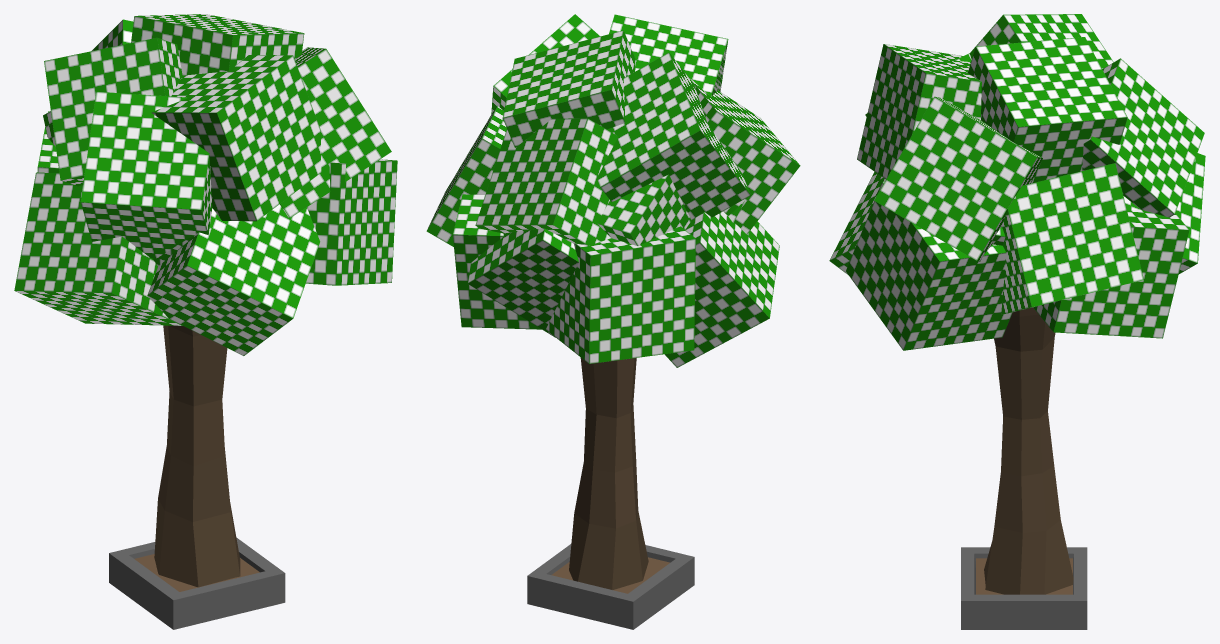
The model's file is Tree1.fbx.
3 views of the same model, side by side, from view 1: azimuth 30°, elevation 25°; view 2: azimuth 150°, elevation 25°; view 3: azimuth 270°, elevation 25° (orthographic). The views are drawn at different scales.
Visible parts, largest first — view 1: Tree_LOD0; view 2: Tree_LOD0; view 3: Tree_LOD0.
Part boxes in pixels (x1,y1,x2,y2): Tree_LOD0: [14, 14, 397, 629]; Tree_LOD0: [426, 14, 800, 629]; Tree_LOD0: [829, 14, 1205, 629].
Size of what is drawn, in the model's own units: 650 by 1035 by 625.
Materials: 2 (2 with a texture image).
